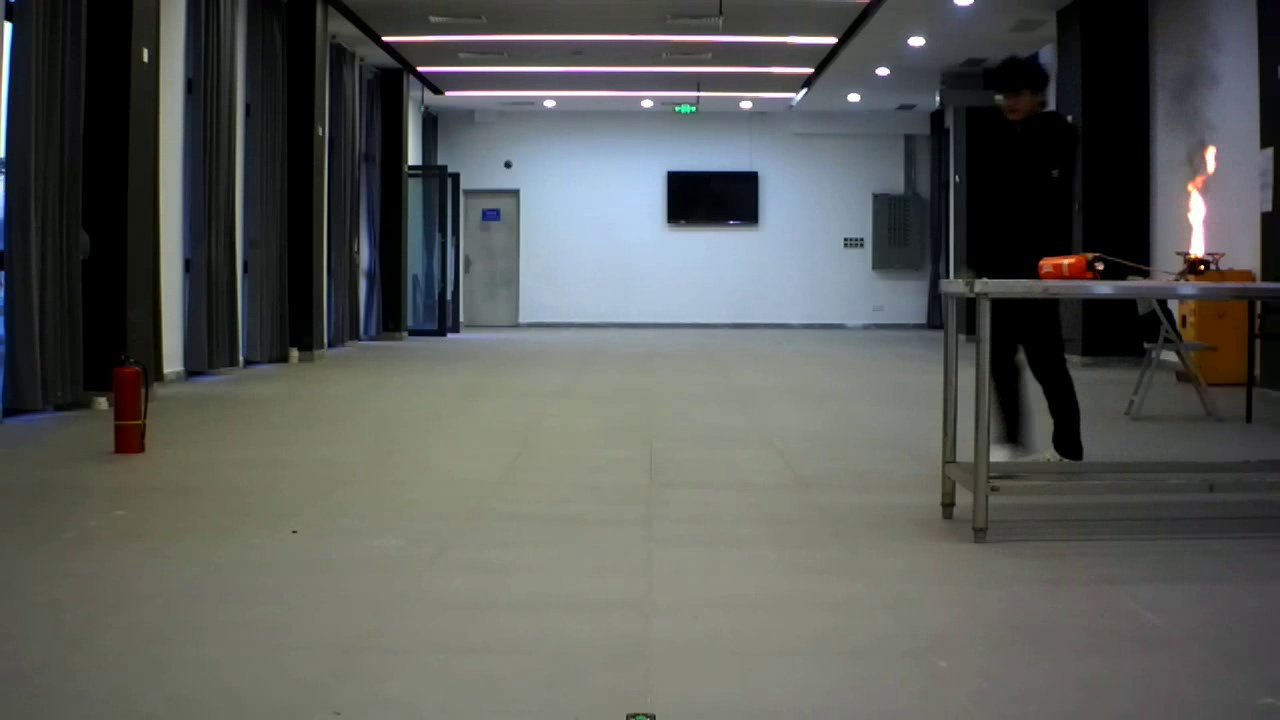Fire: (1175, 132, 1226, 265)
